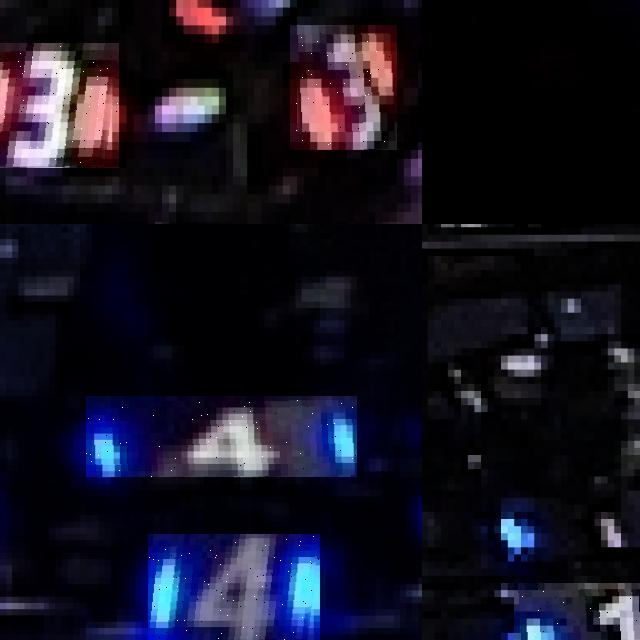B1: (514, 583, 640, 640)
B4: (86, 396, 357, 477), (147, 534, 320, 640)
R3: (0, 43, 119, 167), (290, 25, 397, 150)
